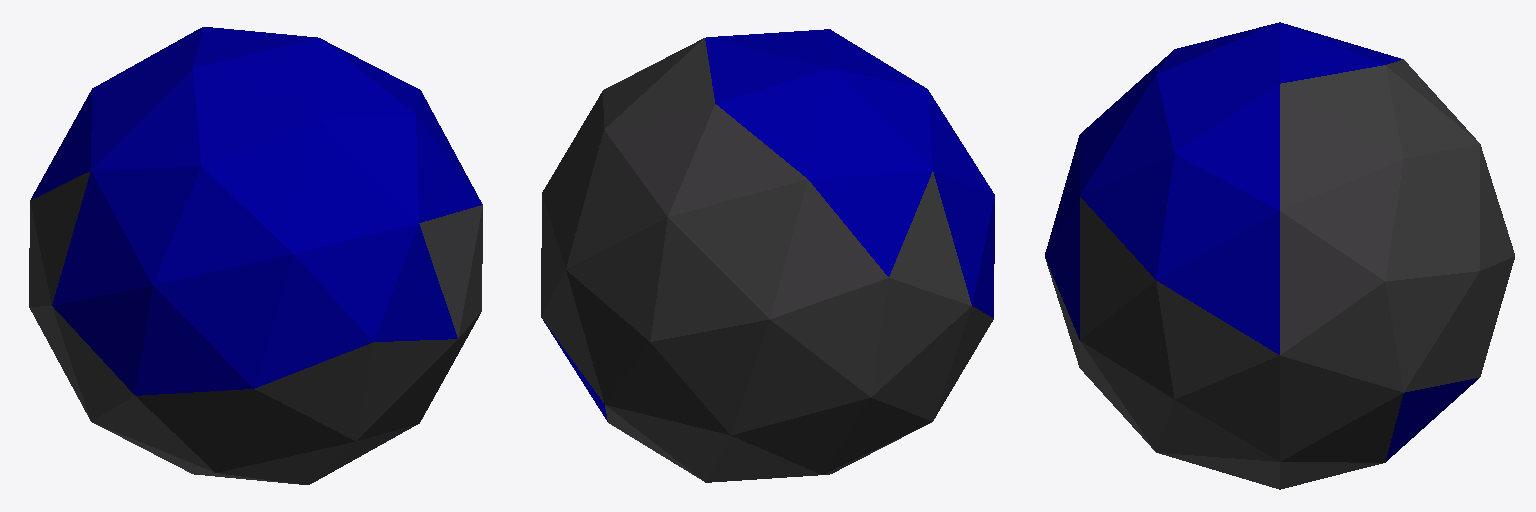
The model's file is spere2.obj.
The picture shows the model from 3 angles: view 1: azimuth 30°, elevation 25°; view 2: azimuth 150°, elevation 25°; view 3: azimuth 270°, elevation 25°; orthographic projection.
Parts seen in each view (by area): view 1: Icosphere; view 2: Icosphere; view 3: Icosphere.
Boxes of the visible parts, x1,y1,x2,y2 form: Icosphere: [29, 27, 482, 484]; Icosphere: [541, 29, 994, 482]; Icosphere: [1045, 22, 1514, 489].
Bounding box in the file's own units: 3.02 × 2.87 × 3.02.